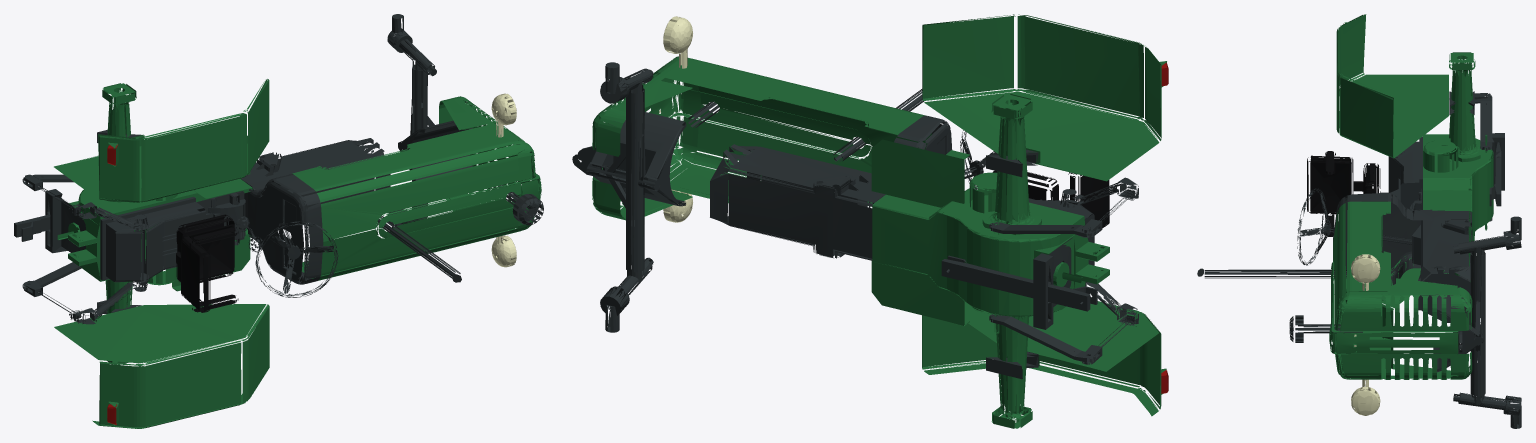
Rendered from vehicle_visual.obj.
The picture shows the model from 3 angles, left to right: view 1: azimuth 30°, elevation 25°; view 2: azimuth 150°, elevation 25°; view 3: azimuth 270°, elevation 25°; orthographic projection. The views are drawn at different scales.
Visible parts, largest first — view 1: solid_27, solid_47, solid_60, solid_22, solid_8, solid_19, solid_0, solid_21, solid_24, solid_5, solid_6, solid_20 (+13 smaller); view 2: solid_60, solid_0, solid_27, solid_21, solid_5, solid_47, solid_24, solid_36, solid_33, solid_7, solid_6, solid_19 (+14 smaller); view 3: solid_24, solid_60, solid_0, solid_27, solid_21, solid_19, solid_22, solid_8, solid_33, solid_28, solid_5, solid_36 (+12 smaller).
Part boxes in pixels (x1=…): solid_27: x1=292, y1=124, x2=521, y2=280; solid_47: x1=54, y1=304, x2=269, y2=428; solid_60: x1=54, y1=79, x2=269, y2=202; solid_22: x1=248, y1=174, x2=323, y2=284; solid_8: x1=100, y1=196, x2=205, y2=282; solid_19: x1=176, y1=214, x2=238, y2=312; solid_0: x1=57, y1=83, x2=252, y2=281; solid_21: x1=240, y1=138, x2=390, y2=249; solid_24: x1=439, y1=96, x2=541, y2=232; solid_5: x1=58, y1=190, x2=250, y2=364; solid_6: x1=45, y1=189, x2=85, y2=253; solid_20: x1=197, y1=191, x2=264, y2=252; solid_60: x1=922, y1=14, x2=1166, y2=181; solid_0: x1=871, y1=94, x2=1109, y2=316; solid_27: x1=663, y1=58, x2=931, y2=203; solid_21: x1=710, y1=144, x2=976, y2=260; solid_5: x1=871, y1=189, x2=1109, y2=428; solid_47: x1=922, y1=301, x2=1166, y2=416; solid_24: x1=592, y1=56, x2=701, y2=220; solid_36: x1=572, y1=112, x2=686, y2=206; solid_33: x1=587, y1=88, x2=660, y2=272; solid_7: x1=941, y1=255, x2=1097, y2=311; solid_6: x1=1033, y1=237, x2=1072, y2=329; solid_19: x1=992, y1=171, x2=1109, y2=228; solid_24: x1=1329, y1=278, x2=1472, y2=379; solid_60: x1=1336, y1=14, x2=1448, y2=158; solid_0: x1=1423, y1=52, x2=1493, y2=256; solid_27: x1=1331, y1=201, x2=1390, y2=375; solid_21: x1=1328, y1=210, x2=1472, y2=322; solid_19: x1=1307, y1=151, x2=1389, y2=236; solid_22: x1=1333, y1=193, x2=1432, y2=285; solid_8: x1=1388, y1=136, x2=1422, y2=209; solid_33: x1=1470, y1=252, x2=1485, y2=396; solid_28: x1=1204, y1=269, x2=1346, y2=278; solid_5: x1=1423, y1=144, x2=1493, y2=281; solid_36: x1=1433, y1=282, x2=1483, y2=372.
Size of the model in its own units: 2.6 by 1.62 by 1.74.
